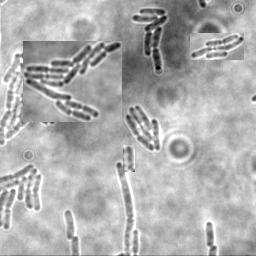Dividing: (114, 161, 133, 255), (204, 221, 215, 248)
Microcolony: (23, 41, 122, 122), (1, 51, 56, 147), (1, 162, 44, 231), (130, 8, 167, 72), (124, 106, 160, 153), (190, 33, 244, 60), (63, 208, 74, 240)
Rod: (123, 145, 135, 172)
